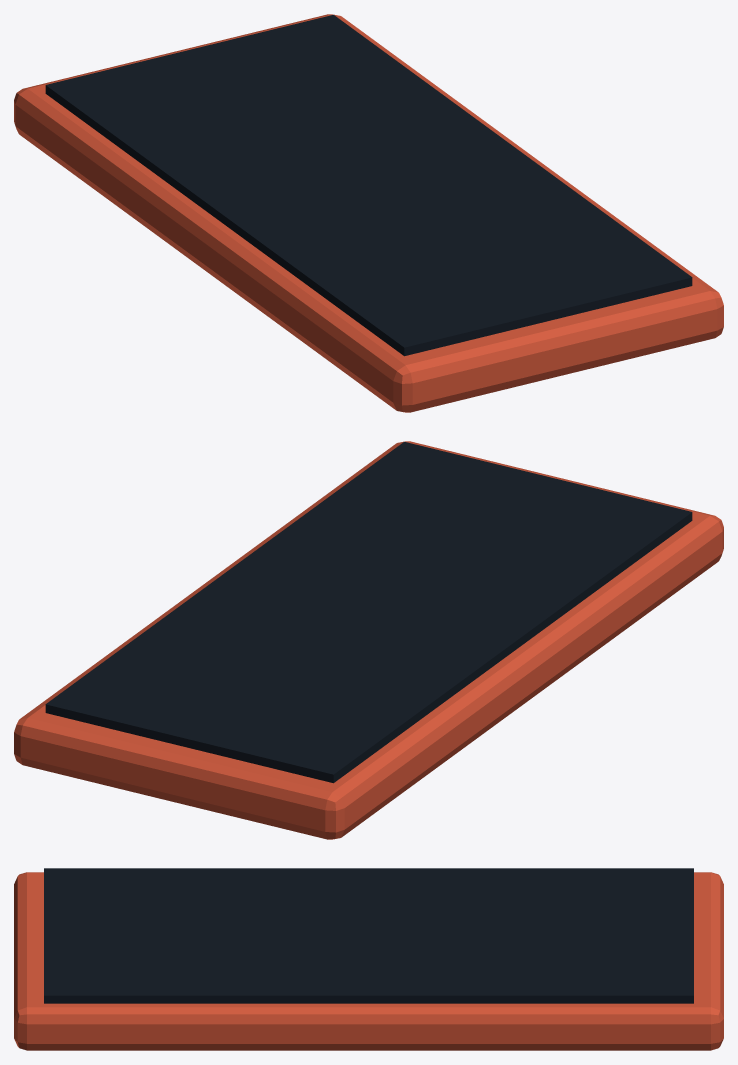
File: Celular.fbx
3 renders of one model, top to bottom at view 1: azimuth 30°, elevation 25°; view 2: azimuth 150°, elevation 25°; view 3: azimuth 270°, elevation 25°, orthographic. The views are drawn at different scales.
Visible parts, largest first — view 1: phone_Celular; view 2: phone_Celular; view 3: phone_Celular.
Part boxes in pixels (x1,y1,x2,y2): phone_Celular: (14,14,723,412); phone_Celular: (14,441,723,839); phone_Celular: (14,868,723,1050).
Bounding box in the file's own units: 0.08 × 0.013 × 0.165.
